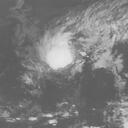cyclone: (38, 3, 124, 74)
